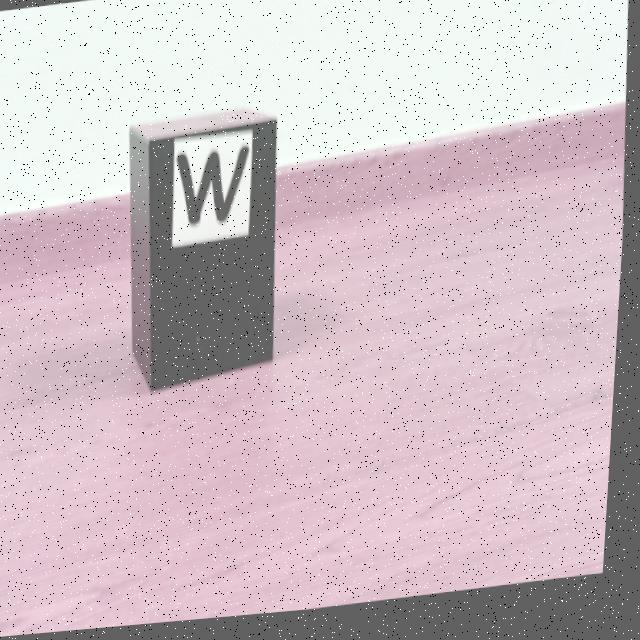W: (178, 151, 251, 228)
